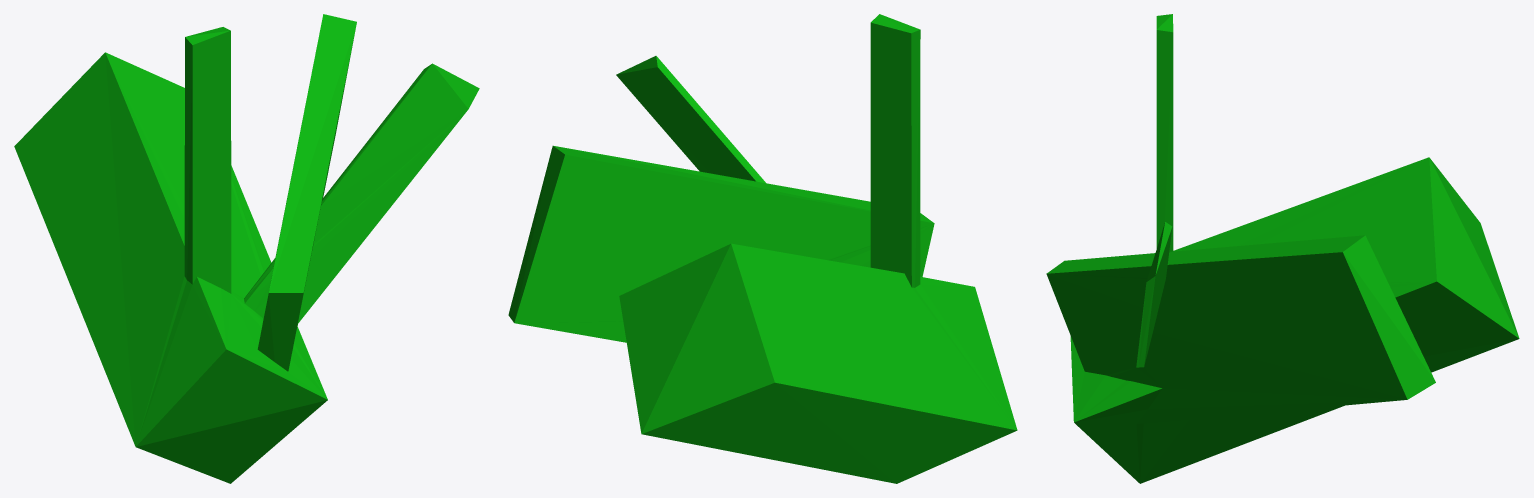
3 views of the same model, side by side, from view 1: azimuth 30°, elevation 25°; view 2: azimuth 150°, elevation 25°; view 3: azimuth 270°, elevation 25° (orthographic). The views are drawn at different scales.
Visible parts, largest first — view 1: 569_Cube.2293; view 2: 569_Cube.2293; view 3: 569_Cube.2293.
Part boxes in pixels (x1,y1,x2,y2): 569_Cube.2293: [14, 14, 479, 483]; 569_Cube.2293: [508, 14, 1017, 483]; 569_Cube.2293: [1046, 14, 1519, 483].
Size of the model in its own units: 12.52 by 14.78 by 13.83.
